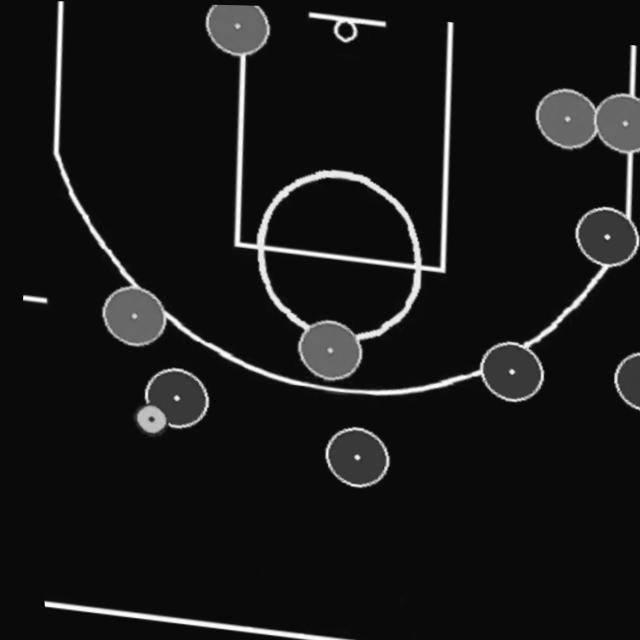Basketball: (127, 404, 160, 436)
Team_A: (473, 339, 538, 400), (137, 367, 201, 428), (571, 204, 635, 265), (318, 426, 382, 486), (608, 348, 640, 409)
Team_B: (97, 285, 161, 346), (292, 319, 356, 379), (534, 86, 593, 146), (206, 4, 269, 55), (594, 90, 640, 151)
